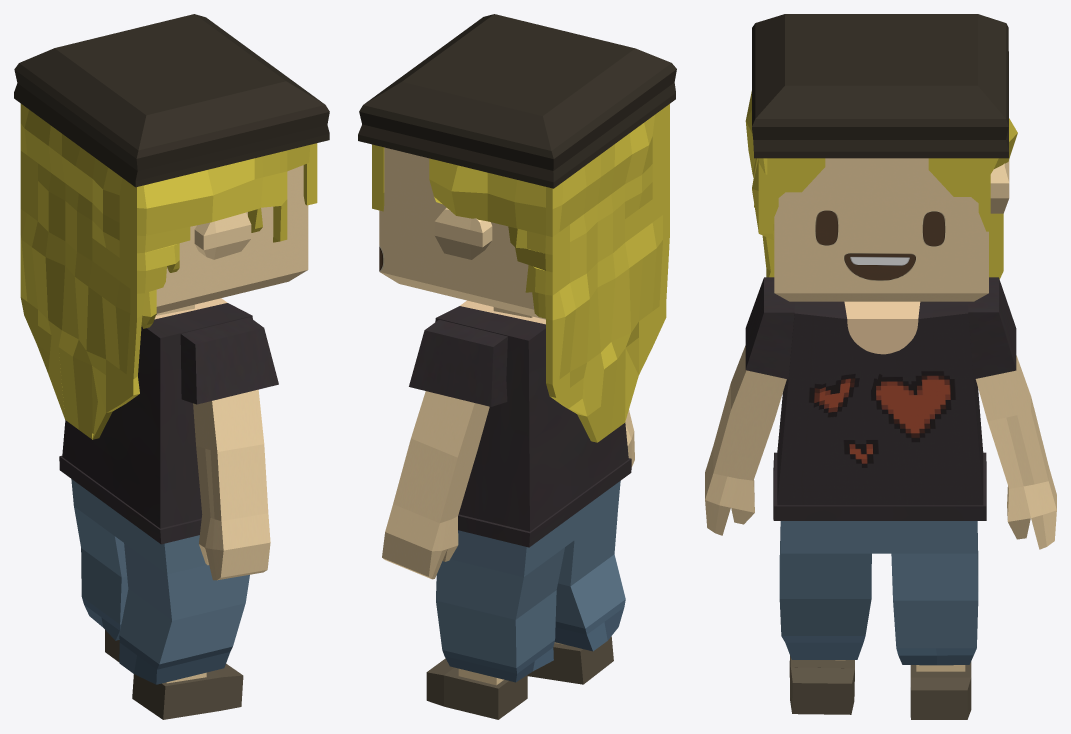
The model's file is marinastudent.fbx.
3 views of the same model, side by side, from view 1: azimuth 30°, elevation 25°; view 2: azimuth 150°, elevation 25°; view 3: azimuth 270°, elevation 25° (orthographic). The views are drawn at different scales.
Visible parts, largest first — view 1: head, Cube.002, pants, body, right arm, right shoulder, r shoe, r ear.001, Cube.004; view 2: head, Cube.002, pants, body, leftt arm, left shoulder, l shoe, r shoe, r ear, Cube.003; view 3: head, body, pants, leftt arm, right arm, right shoulder, left shoulder, r shoe, Cube.002, l shoe, Cube.003, Cube.004 (+1 smaller).
Part boxes in pixels (<box>): head: <box>14,14,329,313</box>; Cube.002: <box>20,103,310,439</box>; pants: <box>71,479,249,684</box>; body: <box>59,298,252,544</box>; right arm: <box>193,389,270,580</box>; right shoulder: <box>180,317,278,404</box>; r shoe: <box>132,663,243,719</box>; r ear.001: <box>194,212,251,259</box>; Cube.004: <box>303,143,317,205</box>; head: <box>358,14,676,319</box>; Cube.002: <box>429,104,669,442</box>; pants: <box>436,481,625,682</box>; body: <box>435,300,631,547</box>; leftt arm: <box>382,391,489,579</box>; left shoulder: <box>409,319,507,406</box>; l shoe: <box>426,658,527,719</box>; r shoe: <box>527,636,613,684</box>; r ear: <box>434,208,492,259</box>; Cube.003: <box>372,144,384,211</box>; head: <box>752,14,1008,301</box>; body: <box>773,301,986,520</box>; pants: <box>779,521,978,665</box>; leftt arm: <box>975,355,1056,549</box>; right arm: <box>705,345,786,535</box>; right shoulder: <box>745,277,794,379</box>; left shoulder: <box>968,277,1016,379</box>; r shoe: <box>789,656,854,714</box>; Cube.002: <box>745,91,1017,279</box>; l shoe: <box>910,661,971,719</box>; Cube.003: <box>928,158,990,231</box>; Cube.004: <box>767,158,825,224</box>.
Bounding box in the file's own units: 223 × 669 × 328.
